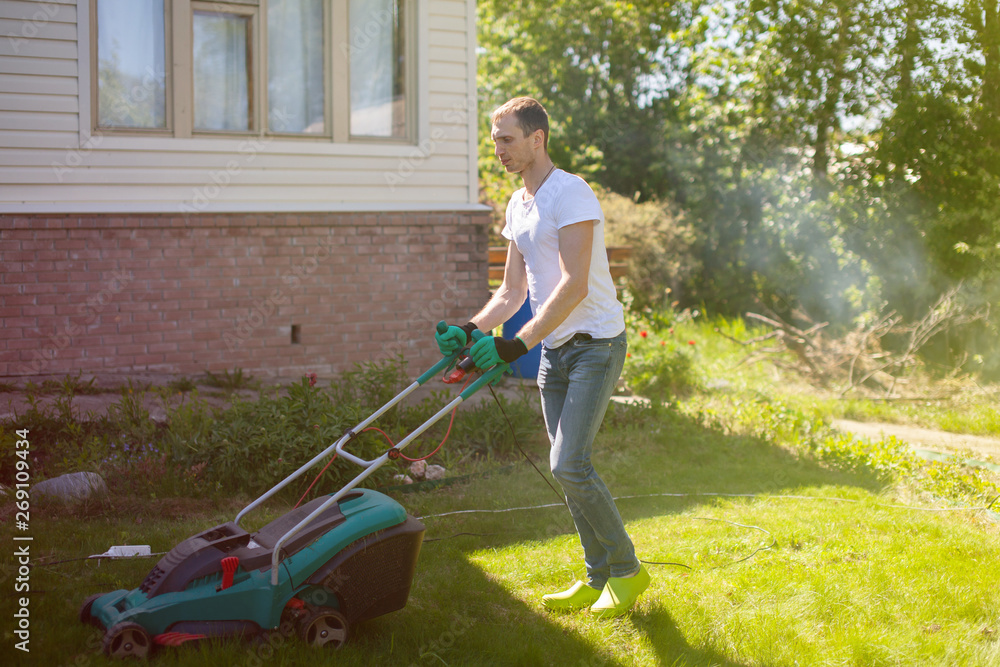person: (436, 97, 650, 615)
